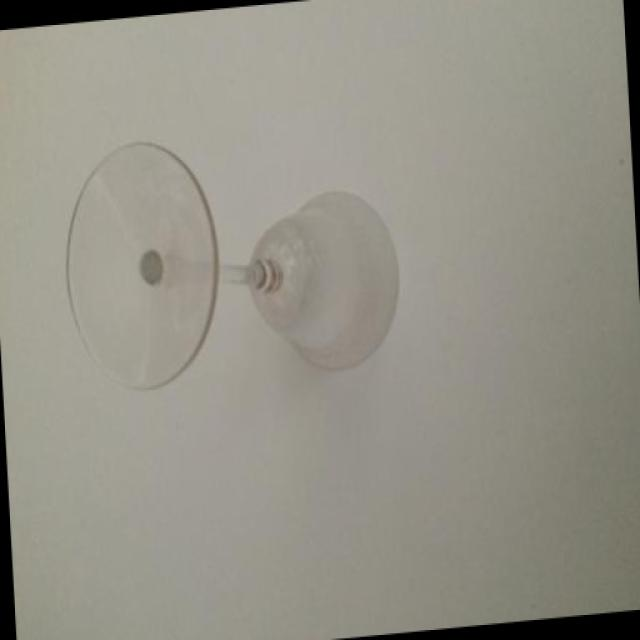vidrio: (62, 107, 437, 449)
